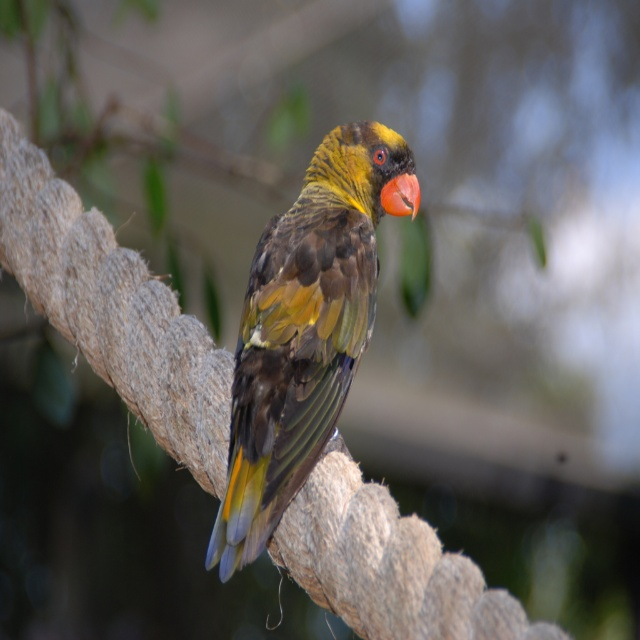Parrot: (208, 118, 422, 587)
